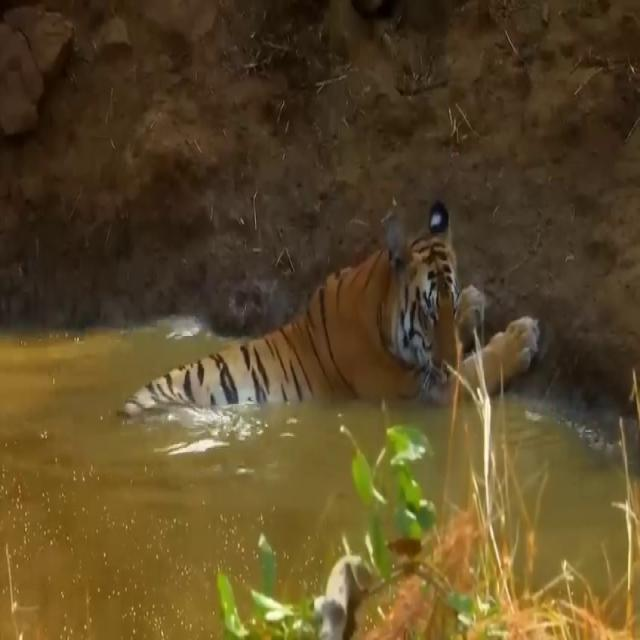tiger: (124, 200, 540, 428)
